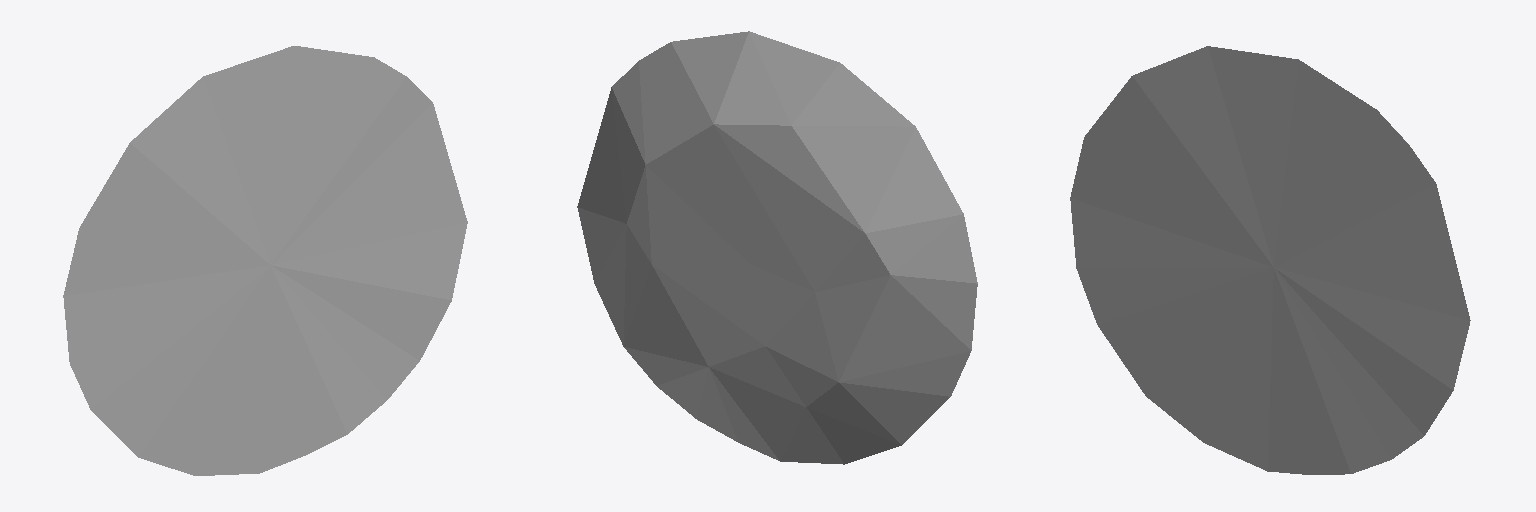
The model's file is plate_cvx_simple.obj.
The picture shows the model from 3 angles: view 1: azimuth 30°, elevation 25°; view 2: azimuth 150°, elevation 25°; view 3: azimuth 330°, elevation 25°; orthographic projection.
Bounding box in the file's own units: 0.2594 × 0.2594 × 0.0251.